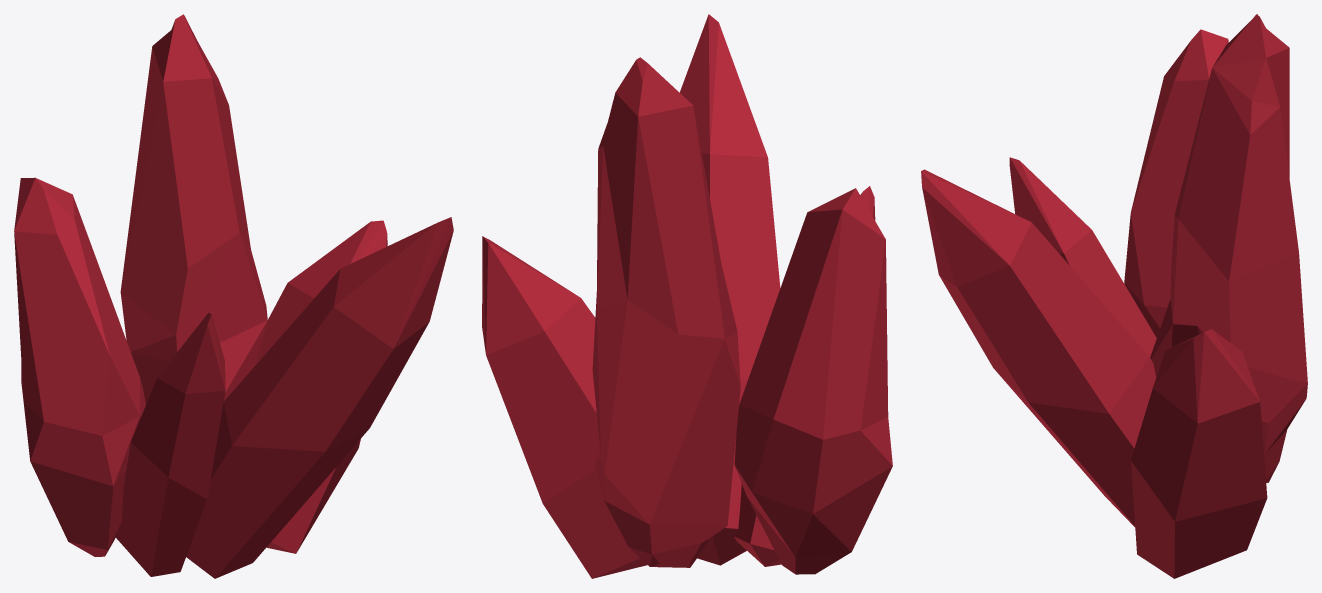
File: Crystal_prop_01.fbx
3 renders of one model, left to right at view 1: azimuth 30°, elevation 25°; view 2: azimuth 150°, elevation 25°; view 3: azimuth 270°, elevation 25°, orthographic. The views are drawn at different scales.
Visible parts, largest first — view 1: Crystal_prop_01; view 2: Crystal_prop_01; view 3: Crystal_prop_01.
Boxes of the visible parts, box(x1,y1,x2,y2) form: Crystal_prop_01: box(14, 14, 453, 578); Crystal_prop_01: box(482, 14, 892, 578); Crystal_prop_01: box(921, 14, 1307, 578).
Size of the model in its own units: 609 by 805 by 535.
